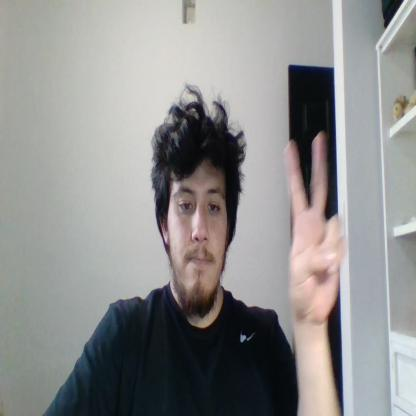V: (284, 131, 345, 323)
